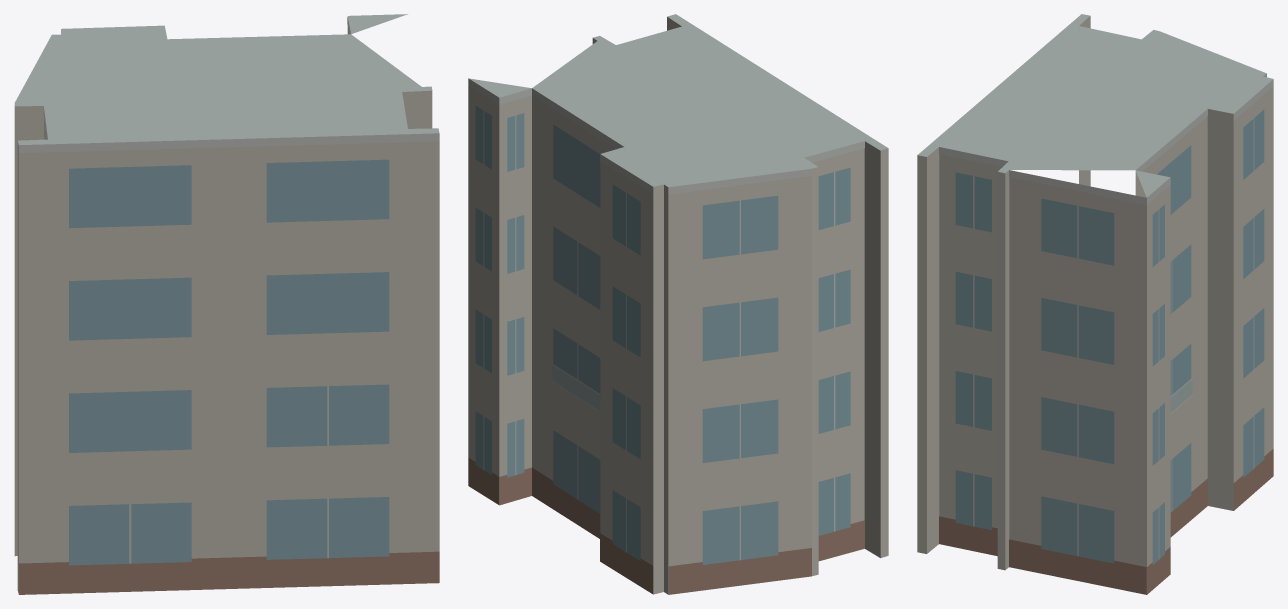
File: survey-upis-32828111.glb
The picture shows the model from 3 angles, left to right: view 1: azimuth 30°, elevation 25°; view 2: azimuth 150°, elevation 25°; view 3: azimuth 270°, elevation 25°; orthographic projection. The views are drawn at different scales.
Visible parts, largest first — view 1: survey-upis-32828111.tmp; view 2: survey-upis-32828111.tmp; view 3: survey-upis-32828111.tmp.
Part boxes in pixels (box(x1,y1,x2,y2)): survey-upis-32828111.tmp: box(14, 14, 439, 594); survey-upis-32828111.tmp: box(468, 14, 888, 594); survey-upis-32828111.tmp: box(917, 14, 1273, 594).
Size of the model in its own units: 13.68 by 13.77 by 11.21.
